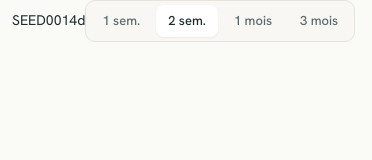
it: usePeriodAnalytics + PeriodSelector (US-2634) › on fetch failure: reverts to seed, flags error, and re-labels the value to seedPeriod (never the requested period)
Click the radio button labelled "3 mois".
click(319, 21)  # box [288,5,350,37]
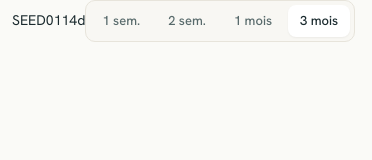
Expected: the text with test id "value" reads "SEED", [12,11,46,29]
Result: the text with test id "error" reads "1" at [54,11,62,29]
